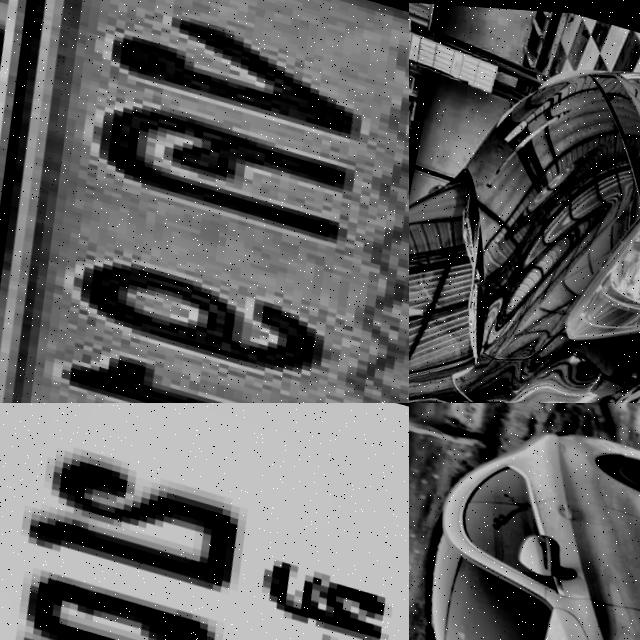license-plate: (0, 0, 409, 403), (0, 403, 409, 640)
